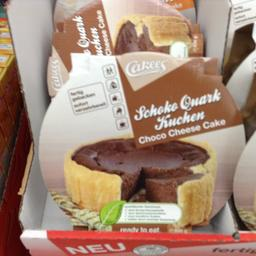cake: (38, 50, 248, 230)
